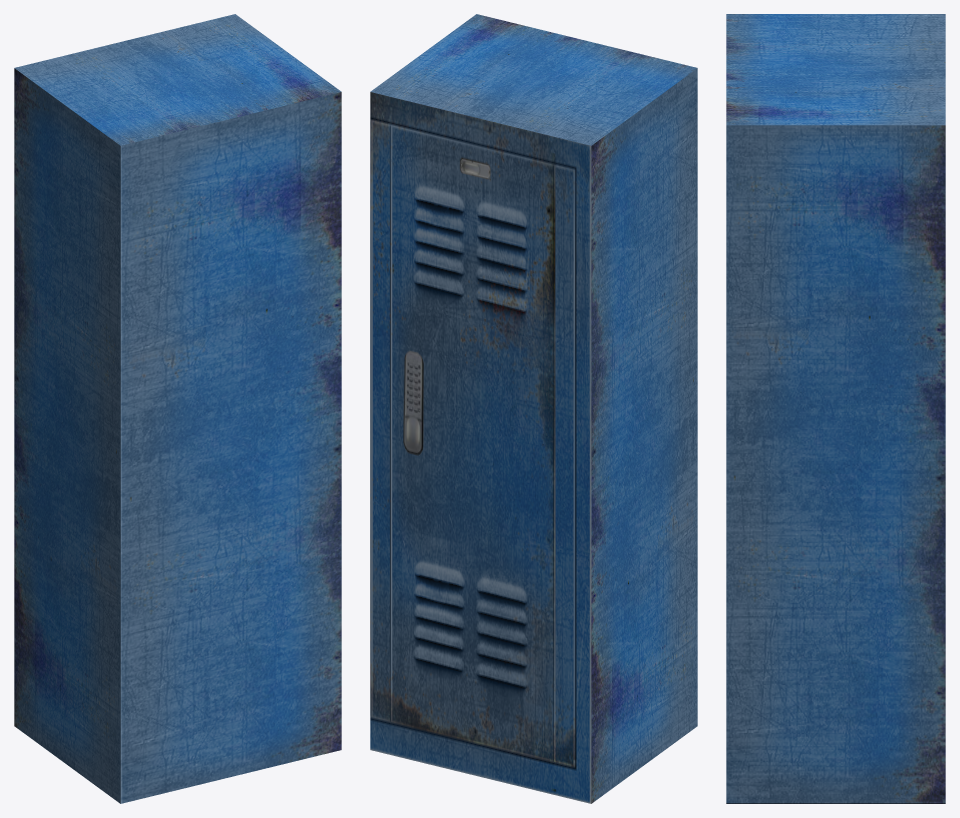
3 renders of one model, left to right at view 1: azimuth 30°, elevation 25°; view 2: azimuth 150°, elevation 25°; view 3: azimuth 270°, elevation 25°, orthographic. The views are drawn at different scales.
Parts seen in each view (by area): view 1: Cube; view 2: Cube; view 3: Cube.
Boxes of the visible parts, box(x1,y1,x2,y2) form: Cube: box(14, 14, 341, 803); Cube: box(370, 14, 697, 803); Cube: box(726, 14, 945, 803).
Size of the model in its own units: 240 by 682 by 200.
